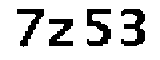3: (119, 7, 147, 50)
5: (83, 4, 116, 50)
7: (13, 4, 44, 54)
z: (47, 15, 77, 51)
